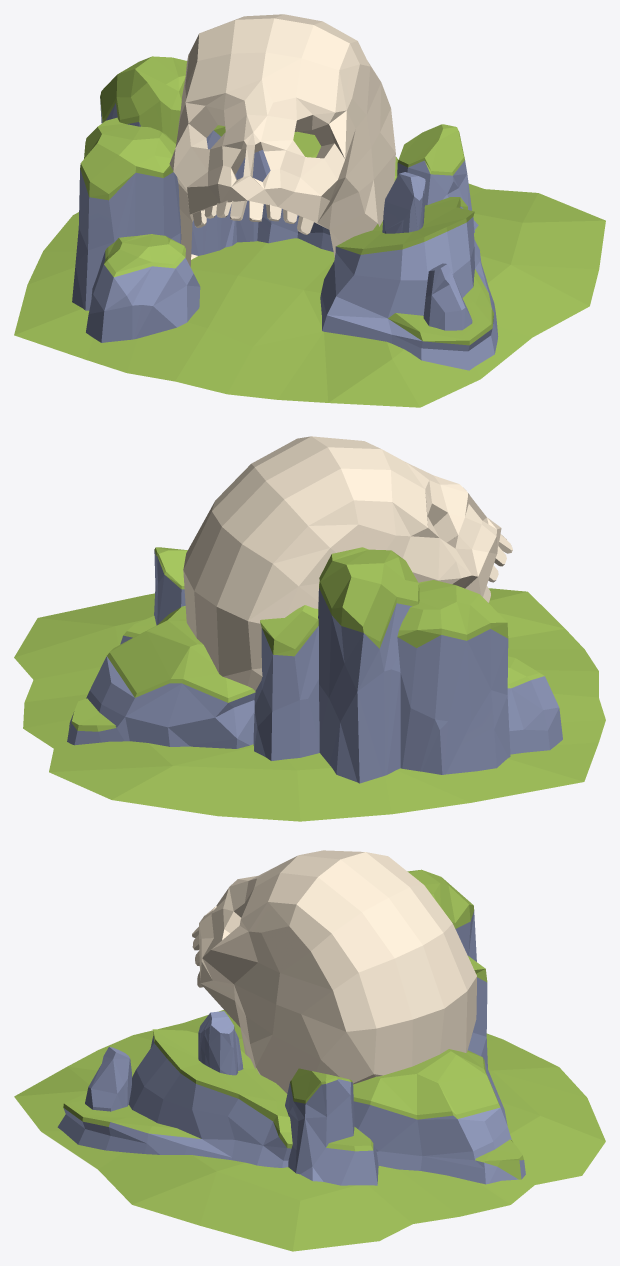
The model's file is Skull Cave_1.fbx.
3 views of the same model, one above another, from view 1: azimuth 30°, elevation 25°; view 2: azimuth 150°, elevation 25°; view 3: azimuth 270°, elevation 25° (orthographic). The views are drawn at different scales.
Visible parts, largest first — view 1: Skull Cave_1; view 2: Skull Cave_1; view 3: Skull Cave_1.
Part boxes in pixels (bbox=[...]): Skull Cave_1: bbox=[14, 14, 605, 407]; Skull Cave_1: bbox=[14, 436, 605, 821]; Skull Cave_1: bbox=[14, 850, 605, 1251].
Bounding box in the file's own units: 50.42 × 22.3 × 47.98.
